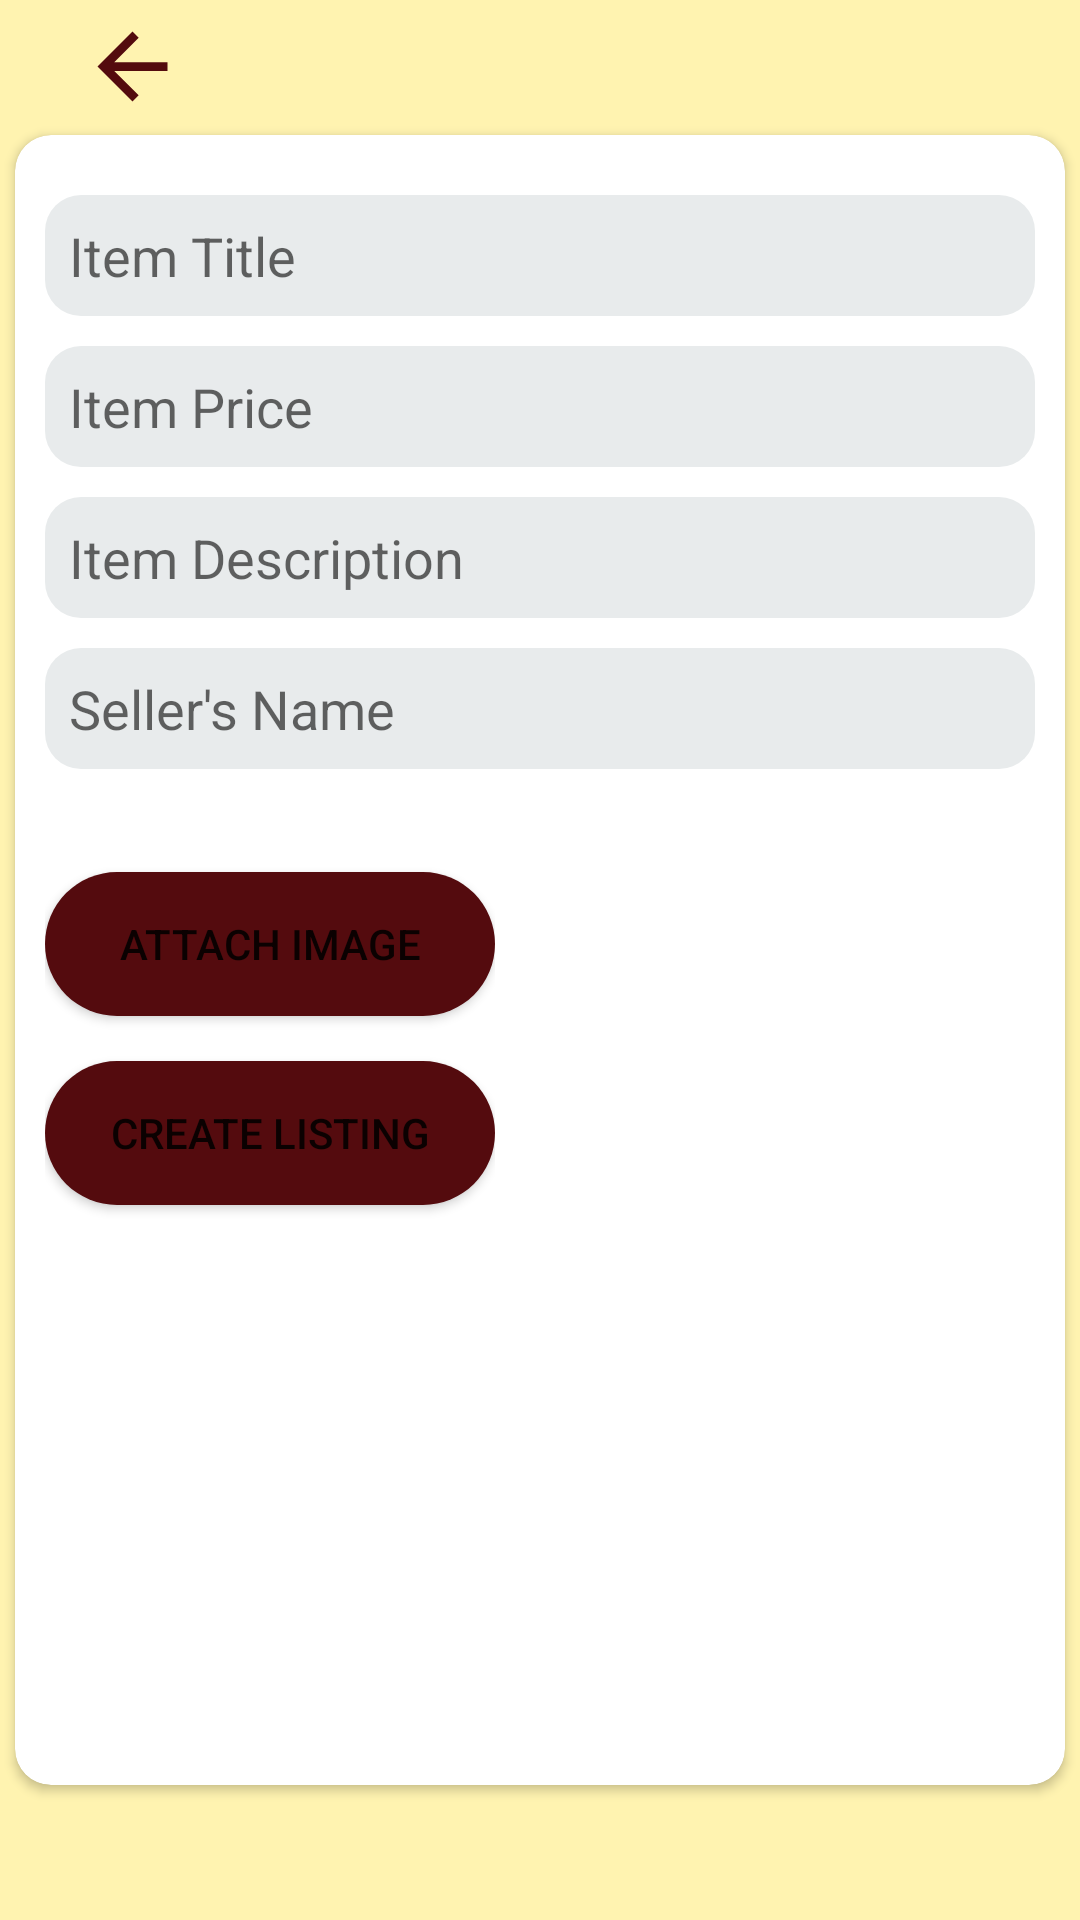

Named icons in this screenshot (1080x1920) and their centers, (x,y):
back: (132,66)
